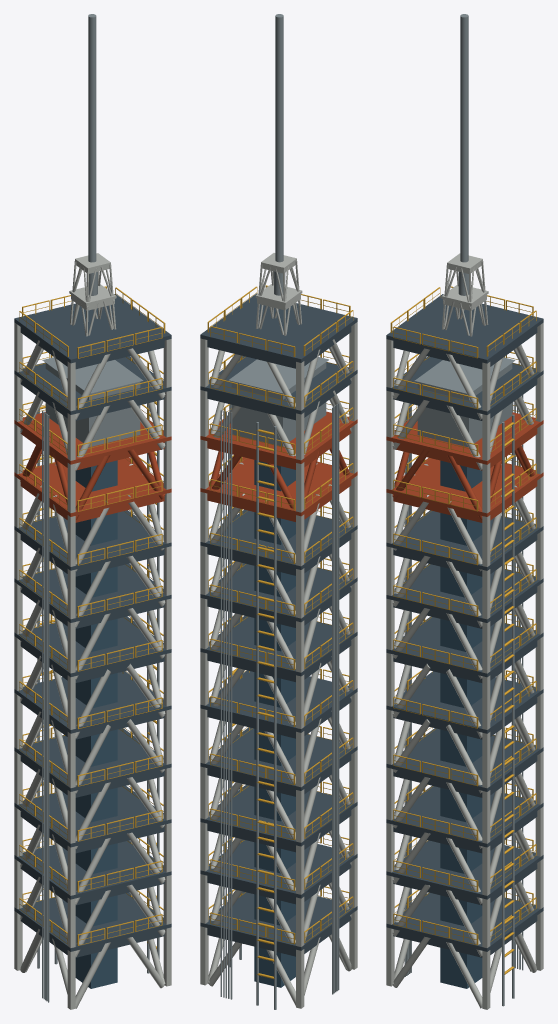
File: Gantry.glb
3 renders of one model, left to right at view 1: azimuth 30°, elevation 25°; view 2: azimuth 150°, elevation 25°; view 3: azimuth 330°, elevation 25°, orthographic.
Parts seen in each view (by area): view 1: LC39Gantry; view 2: LC39Gantry; view 3: LC39Gantry.
Boxes of the visible parts, x1,y1,x2,y2 form: LC39Gantry: (14, 14, 171, 1009); LC39Gantry: (200, 14, 357, 1009); LC39Gantry: (386, 14, 543, 1009).
Bounding box in the file's own units: 4.98 × 43.59 × 4.75.
